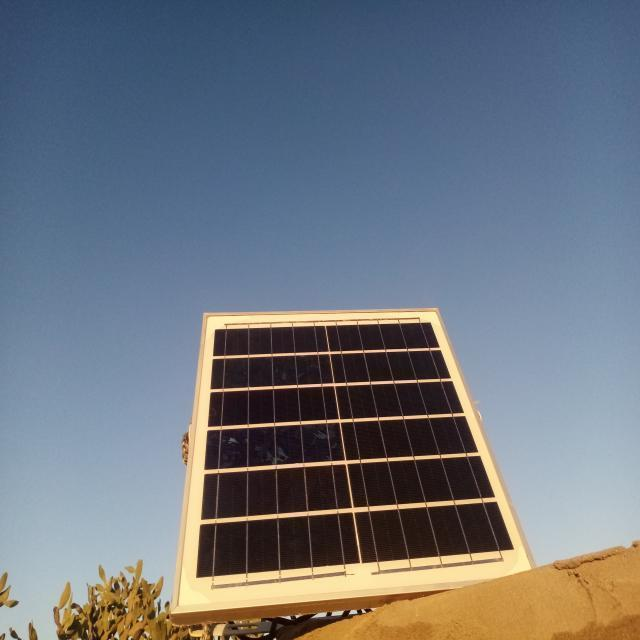Normal Solar Panel: (173, 306, 532, 608)
